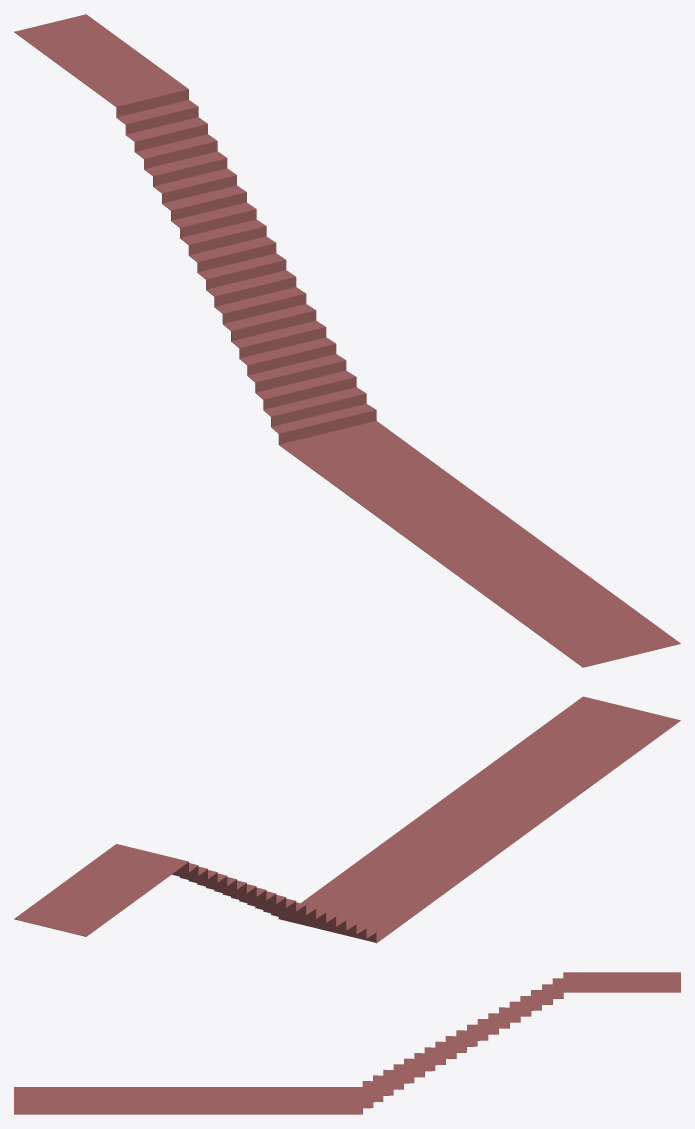
The model's file is mainRoom_red_prom.fbx.
3 renders of one model, top to bottom at view 1: azimuth 30°, elevation 25°; view 2: azimuth 150°, elevation 25°; view 3: azimuth 270°, elevation 25°, orthographic. The views are drawn at different scales.
Parts seen in each view (by area): view 1: red_prom; view 2: red_prom; view 3: red_prom.
Part boxes in pixels (x1,y1,x2,y2): red_prom: (14, 14, 680, 667); red_prom: (14, 696, 680, 943); red_prom: (14, 972, 680, 1114).
Bounding box in the file's own units: 35.54 × 71.79 × 366.
